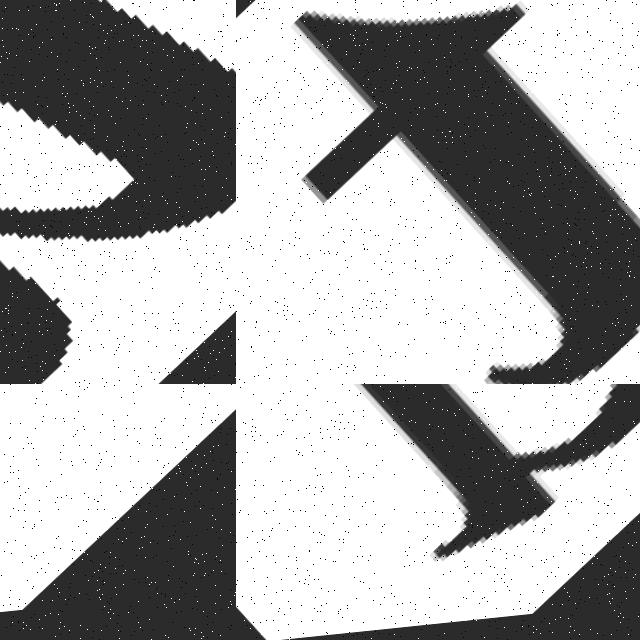D: (236, 384, 640, 631)
M: (0, 384, 236, 619)
T: (236, 0, 640, 384)
U: (0, 0, 236, 384)
